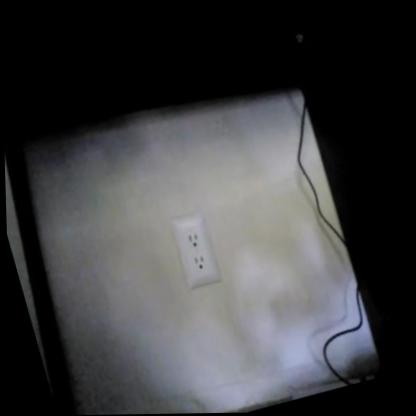OUTLET: (171, 213, 222, 288)
